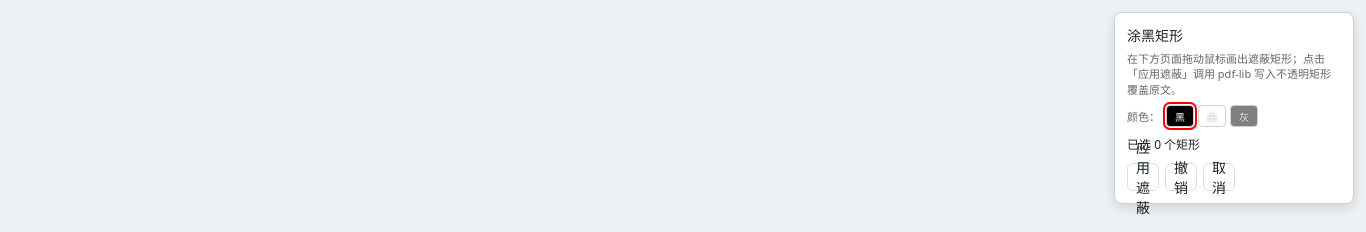
Test: RedactionOverlay (ISS-067 阶段 2) › 鼠标按下并拖动 → 显示 draft 矩形（redaction-overlay__draft）
Press the mouse on the element with test id "redaction-overlay" at (1234, 108), box [1114, 12, 1354, 204]
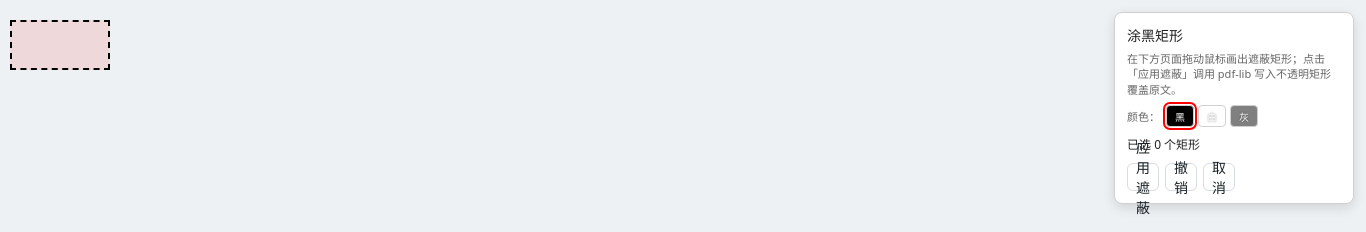
expect the element with class "redaction-overlay__draft" is shown: met, box [10, 20, 110, 70]
